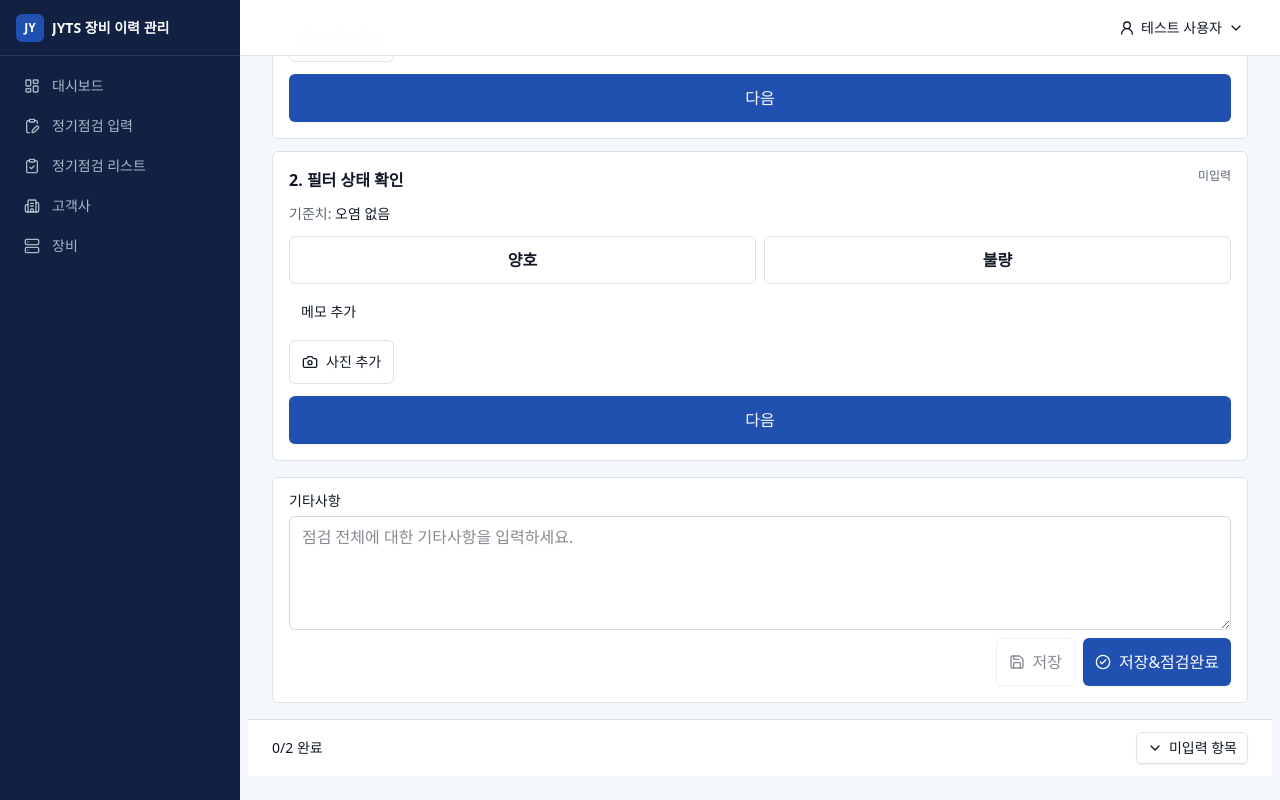
inspection input page › does not complete while an item result is missing
The width and height of the screenshot is (1280, 800).
(page scrolled)
Click the button "저장&점검완료": (1157, 662) [1083,638,1231,686]
(page scrolled)
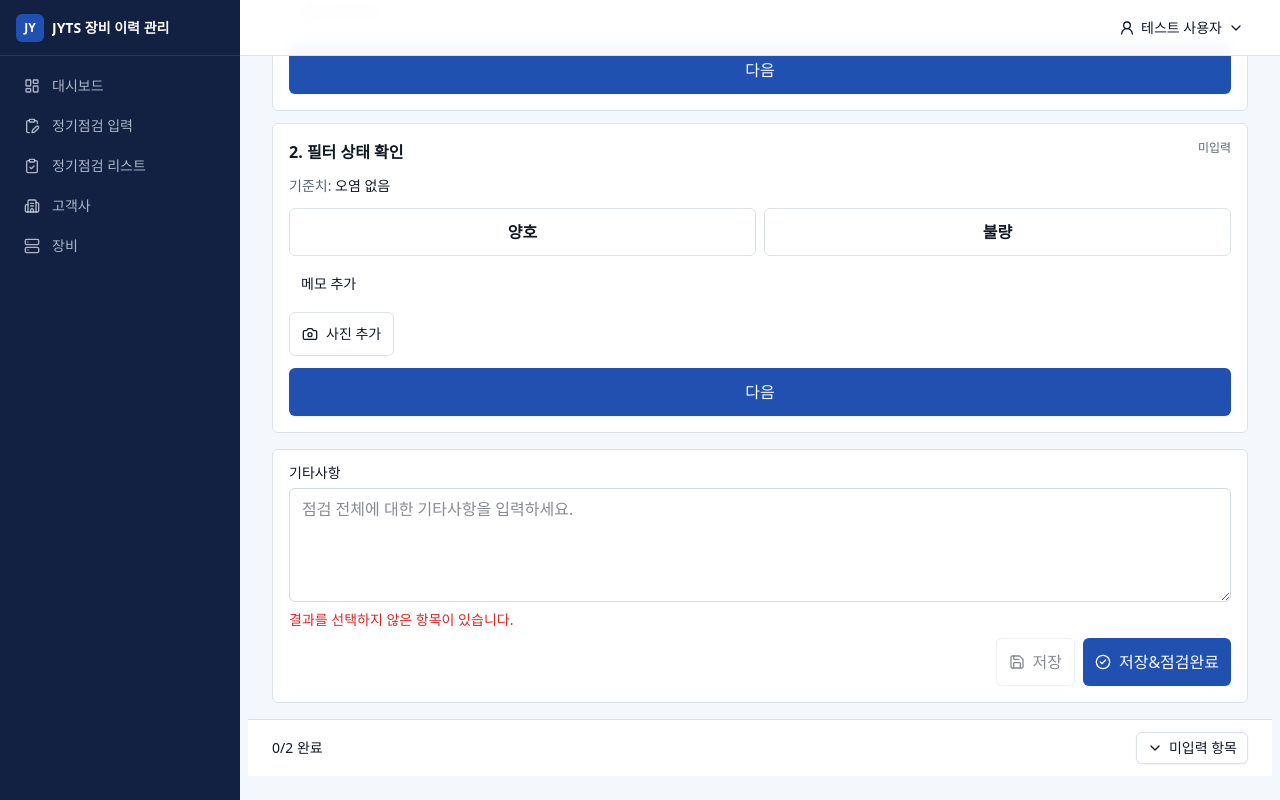
Result: the message reads "결과를 선택하지 않은 항목이 있습니다." at [289,610,513,629]
